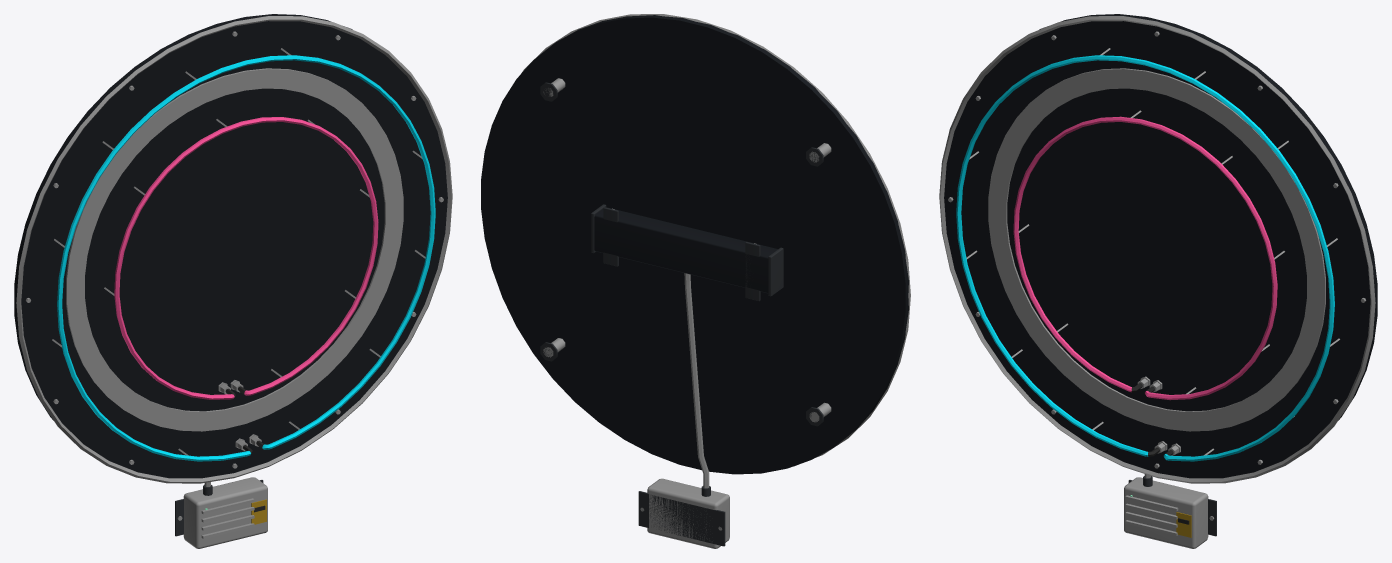
File: Neon_Ring_Double.fbx
3 views of the same model, side by side, from view 1: azimuth 30°, elevation 25°; view 2: azimuth 150°, elevation 25°; view 3: azimuth 330°, elevation 25° (orthographic).
Visible parts, largest first — view 1: Neon_Ring_Double_LOD0; view 2: Neon_Ring_Double_LOD0; view 3: Neon_Ring_Double_LOD0.
Part boxes in pixels (x1,y1,x2,y2): Neon_Ring_Double_LOD0: [14, 14, 452, 548]; Neon_Ring_Double_LOD0: [481, 14, 910, 548]; Neon_Ring_Double_LOD0: [939, 14, 1377, 548].
Size of what is drawn, in the model's own units: 1.45 by 1.65 by 0.1695.
